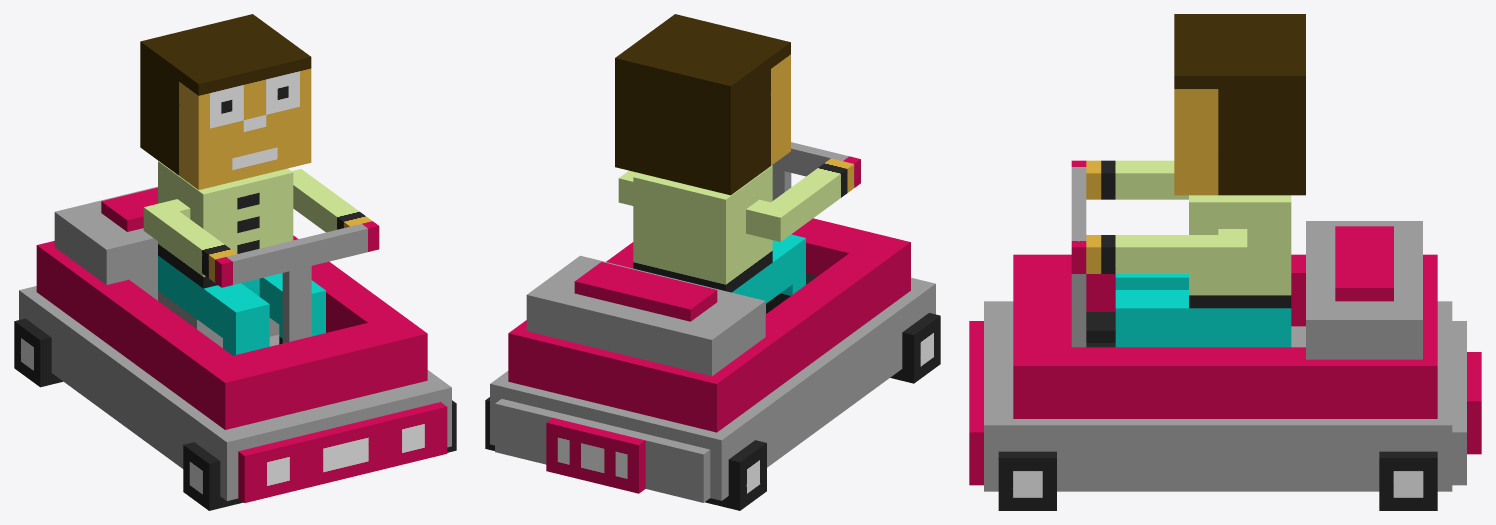
Rendered from Character_1.fbx.
The picture shows the model from 3 angles, left to right: view 1: azimuth 30°, elevation 25°; view 2: azimuth 150°, elevation 25°; view 3: azimuth 270°, elevation 25°; orthographic projection. The views are drawn at different scales.
Visible parts, largest first — view 1: Character_1; view 2: Character_1; view 3: Character_1.
Part boxes in pixels (x1,y1,x2,y2): Character_1: (14,14,456,510); Character_1: (485,14,940,510); Character_1: (969,14,1481,510).
Size of the model in its own units: 22 by 30 by 35.
1 material, 1 textured.
